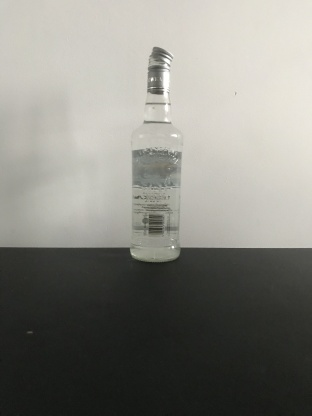nakretka: (145, 44, 174, 95)
